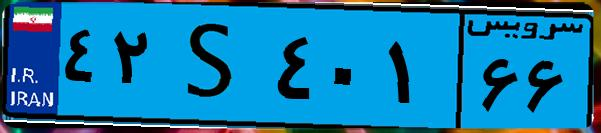0: (330, 28, 385, 110)
1: (385, 28, 445, 110)
2: (110, 28, 158, 98)
4: (270, 28, 330, 110), (57, 26, 110, 100)
6: (475, 38, 525, 113), (525, 38, 570, 115)
S: (158, 12, 270, 120)
